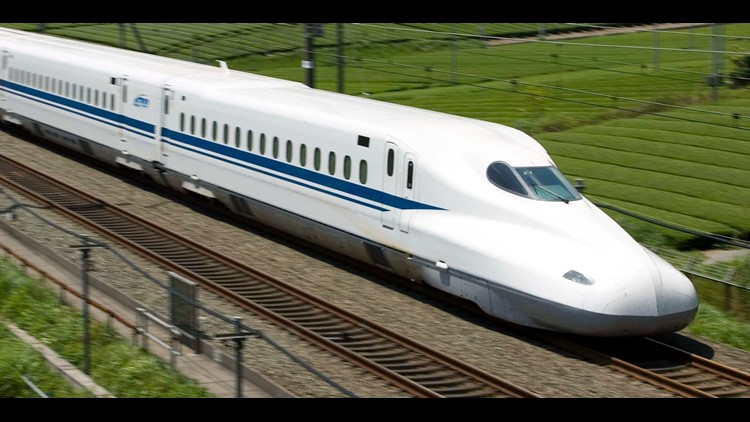train: (6, 34, 706, 347)
